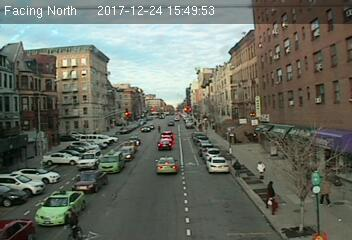bicycle: (62, 207, 83, 240)
car: (34, 190, 87, 224), (71, 167, 108, 193), (98, 151, 124, 173), (154, 154, 179, 175), (76, 149, 101, 168), (206, 156, 230, 174), (157, 138, 171, 149)
pedestrian: (264, 179, 278, 213), (255, 160, 266, 181)
